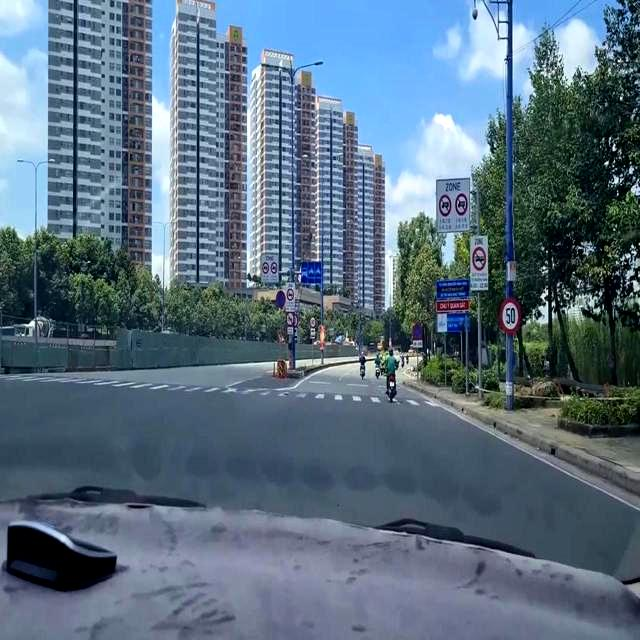Cấm các phương tiện hoạt động trong khung giờ cố định: (432, 170, 471, 234), (466, 234, 493, 299), (259, 247, 282, 285)
Cấm dừng - Cấm đỗ: (409, 319, 423, 339), (275, 287, 287, 309)
Cấm xe máy: (284, 306, 296, 328)
Giới hạn tốc độ: 50Km/h: (500, 299, 521, 335)
Giới hạn tốc độ: 80Km/h: (309, 314, 318, 329)
Khác: (430, 282, 471, 335)
Làn đường cho từng xe: (299, 257, 323, 288)
